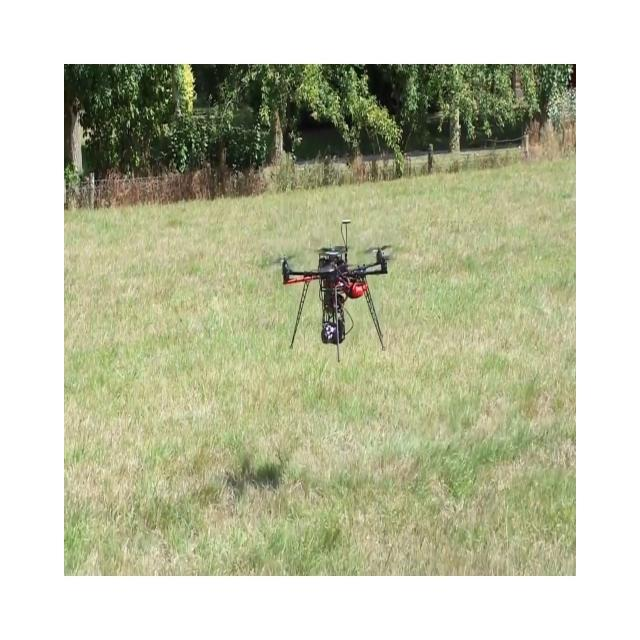drone: (276, 218, 392, 362)
